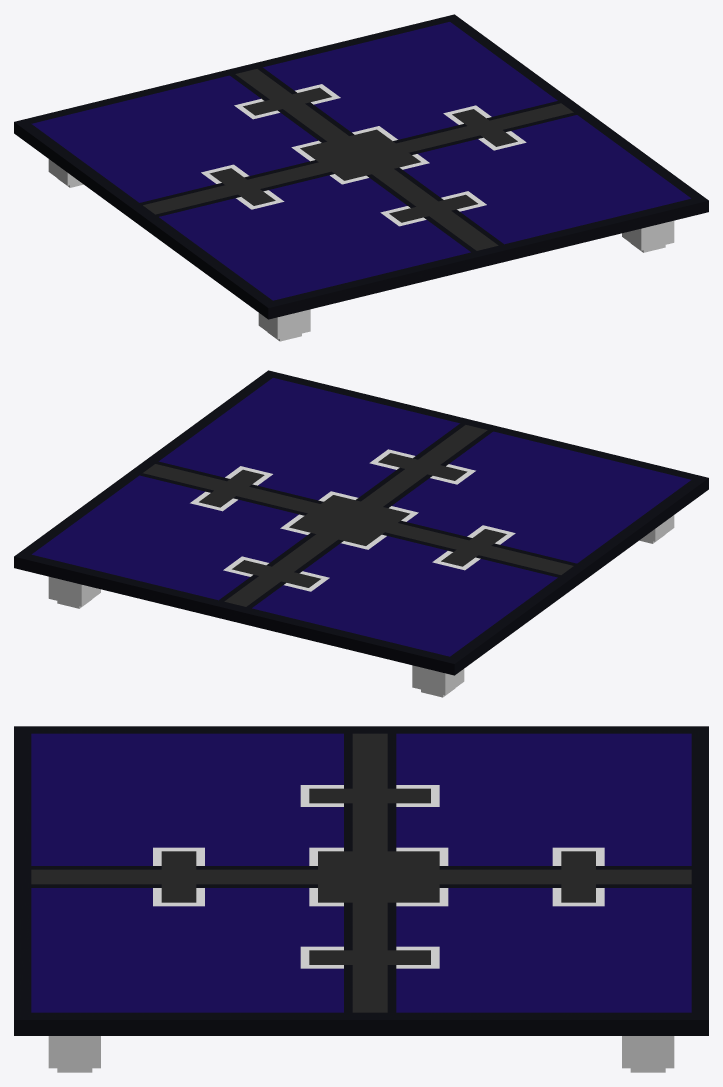
File: space_platform.obj
The picture shows the model from 3 angles, top to bottom: view 1: azimuth 30°, elevation 25°; view 2: azimuth 150°, elevation 25°; view 3: azimuth 270°, elevation 25°; orthographic projection. The views are drawn at different scales.
Size of the model in its own units: 8 by 0.9 by 8.
1 material, 1 textured.
